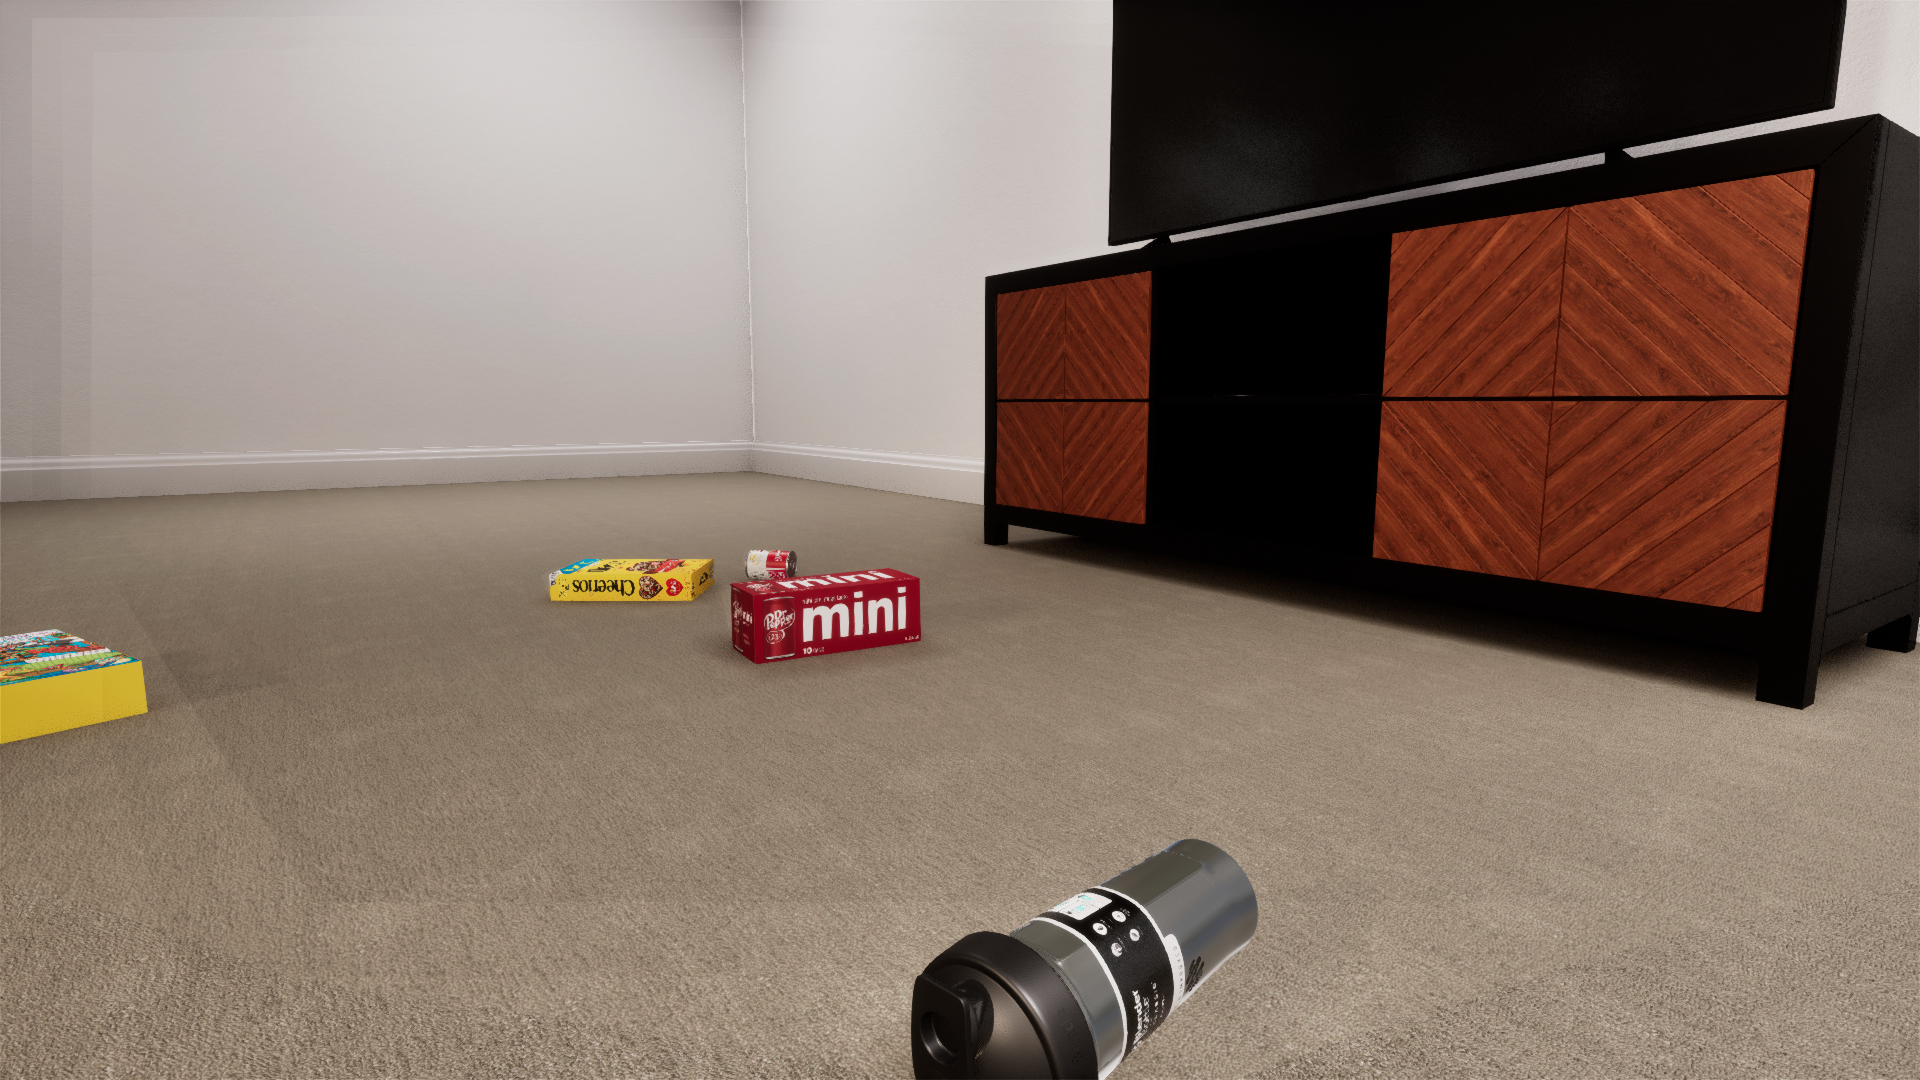cheerios: (1261, 558, 1344, 762)
soup: (1153, 674, 1218, 713)
